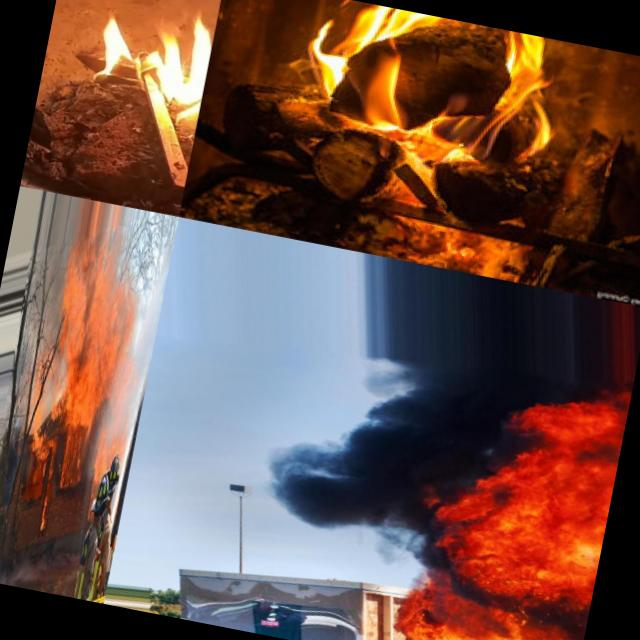fire: (266, 0, 595, 200), (410, 392, 625, 640), (77, 0, 218, 142), (40, 242, 137, 430), (108, 276, 148, 408), (58, 424, 92, 492), (26, 416, 64, 475), (28, 362, 52, 418), (90, 432, 114, 487), (37, 495, 50, 536)
smoke: (235, 340, 487, 590), (122, 245, 172, 412)
